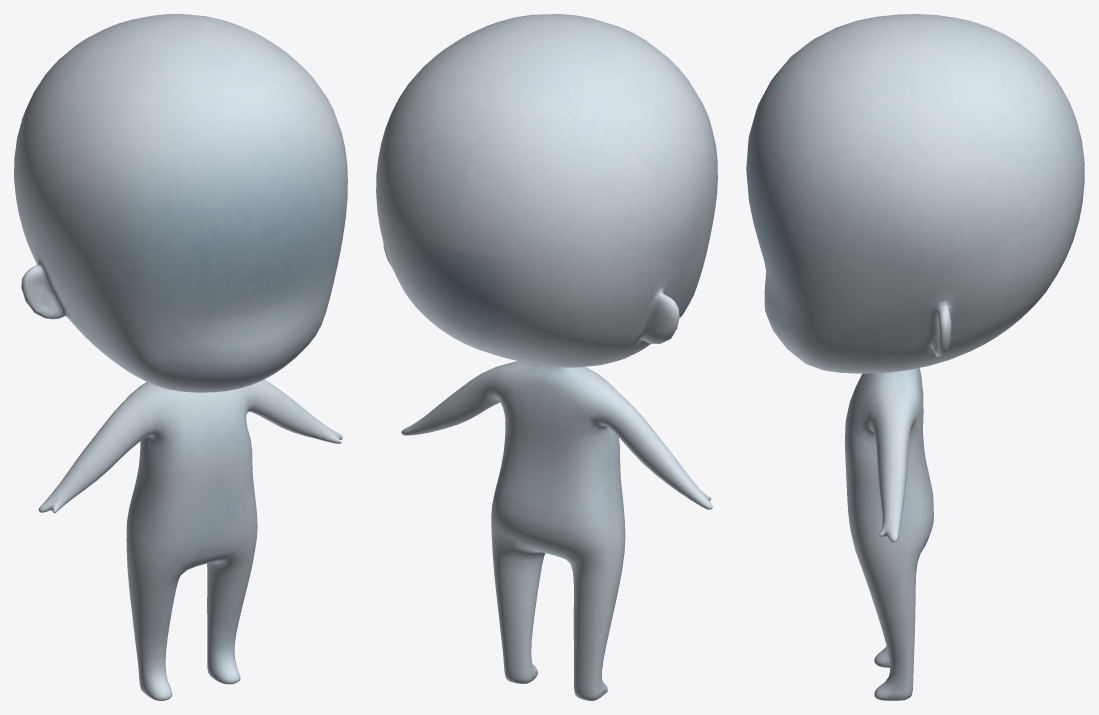
File: ADBASE_ANGEL.fbx
The picture shows the model from 3 angles, left to right: view 1: azimuth 30°, elevation 25°; view 2: azimuth 150°, elevation 25°; view 3: azimuth 270°, elevation 25°; orthographic projection. The views are drawn at different scales.
Parts seen in each view (by area): view 1: Angel Body; view 2: Angel Body; view 3: Angel Body.
Part boxes in pixels (box(x1,y1,x2,y2)): Angel Body: box(14, 14, 347, 700); Angel Body: box(376, 14, 717, 700); Angel Body: box(746, 14, 1084, 700).
Bounding box in the file's own units: 46.02 × 93.61 × 44.25.
